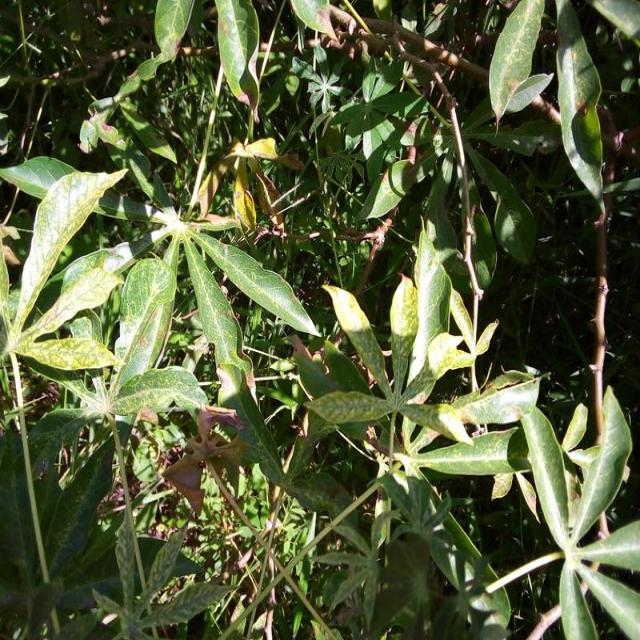cassava leaf: (12, 166, 129, 342), (192, 228, 321, 338), (554, 0, 605, 217), (488, 0, 546, 125)
